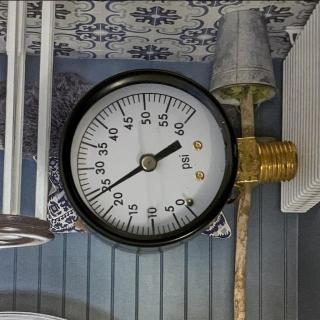gauge: (49, 62, 243, 258), (0, 309, 84, 319), (174, 194, 204, 219), (175, 106, 199, 130), (138, 152, 158, 172), (86, 196, 96, 204)
